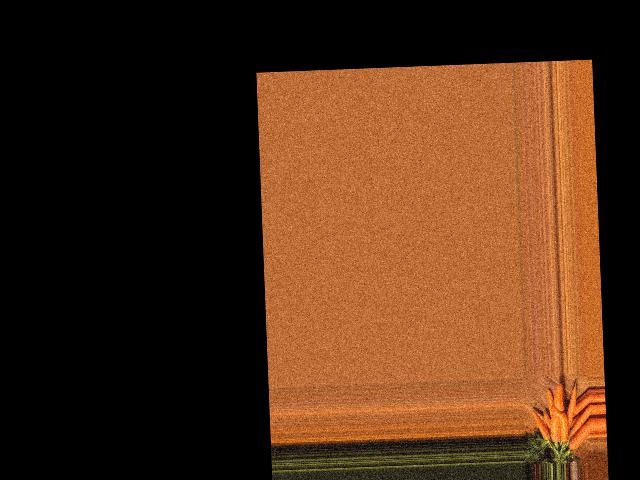carrot: (567, 420, 591, 452)
